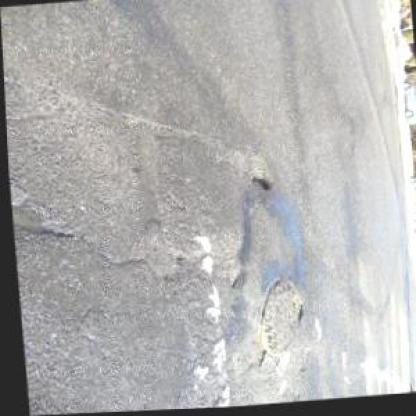pothole: (8, 196, 70, 242), (246, 158, 273, 194)
